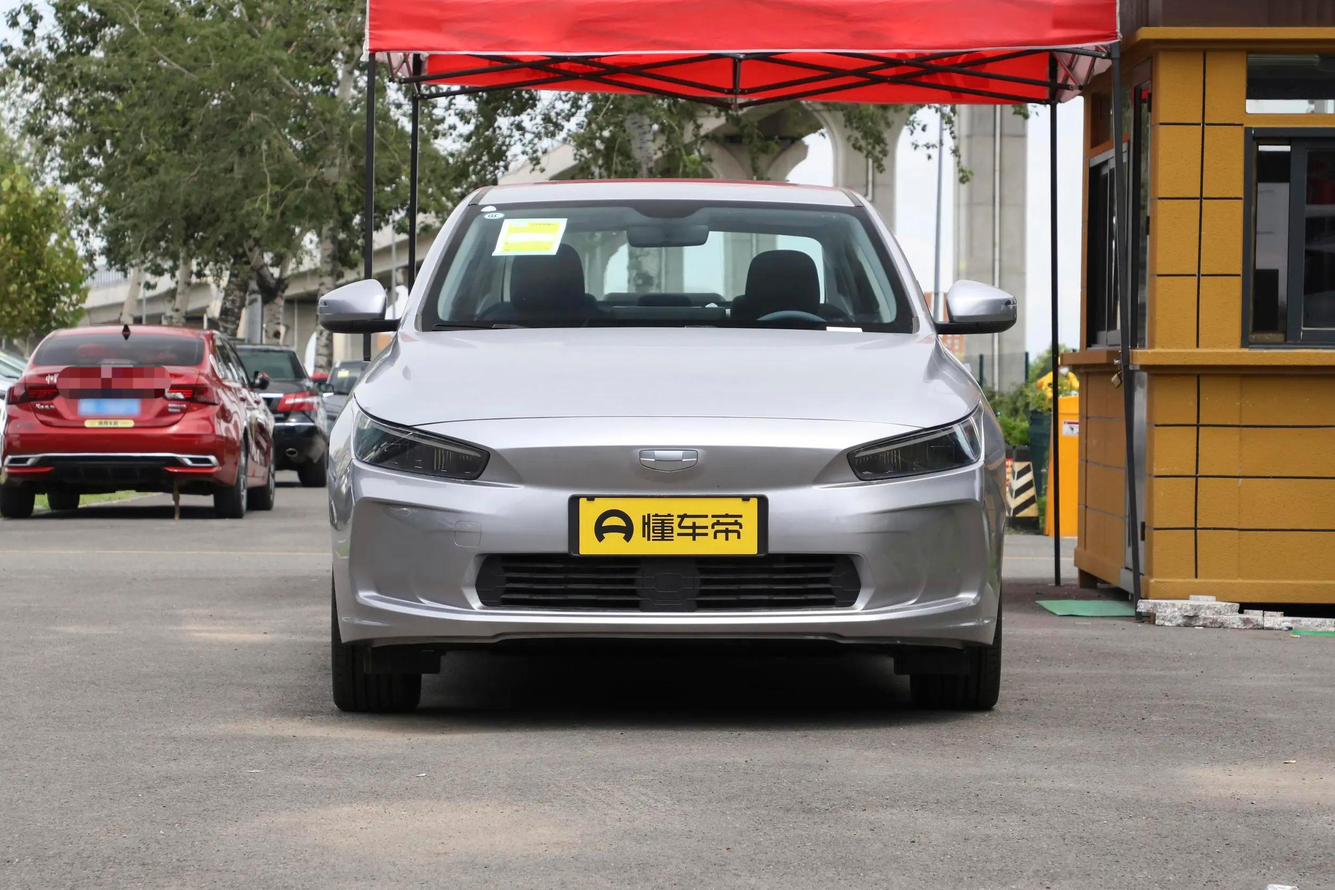GEOMETRY: (640, 451, 697, 471)
